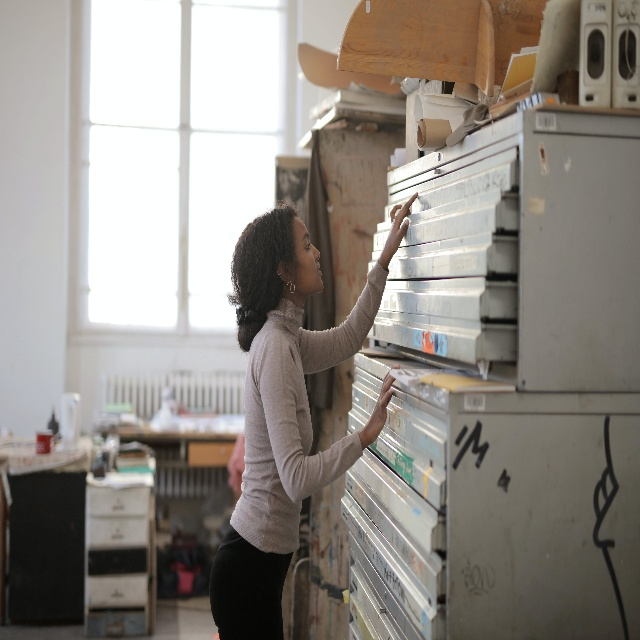Sin_guantes: (364, 362, 400, 445), (382, 191, 418, 257)
